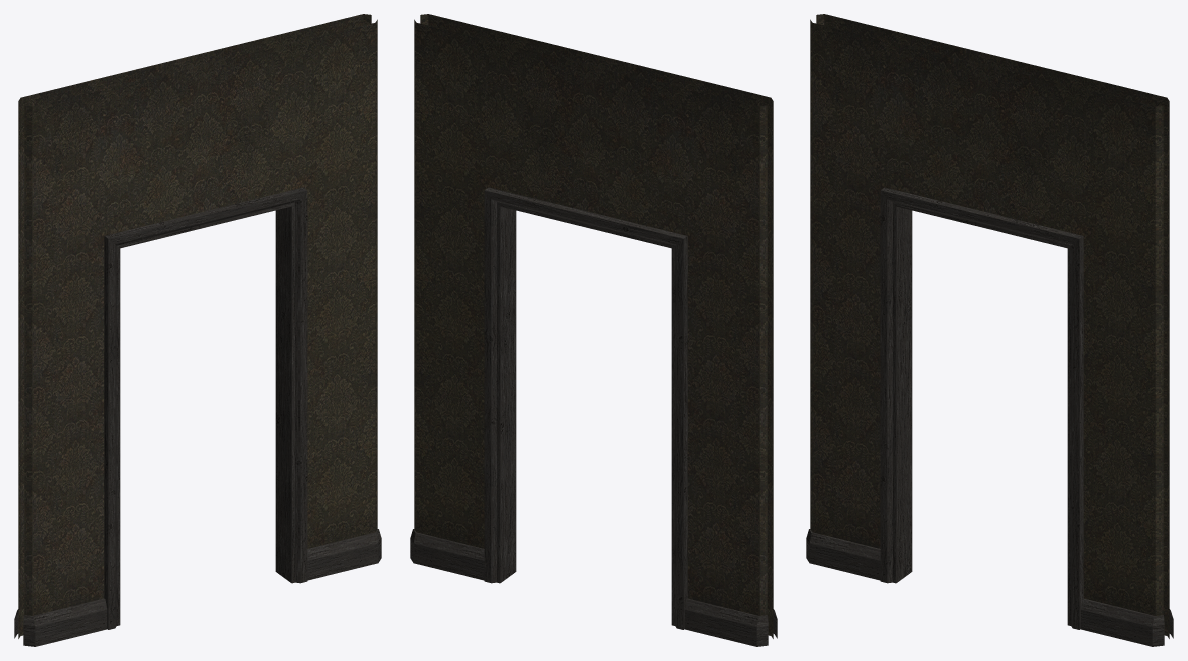
The model's file is doorway_2_2_half.glb.
3 renders of one model, left to right at view 1: azimuth 30°, elevation 25°; view 2: azimuth 150°, elevation 25°; view 3: azimuth 330°, elevation 25°, orthographic.
Visible parts, largest first — view 1: doorway_2_2_half; view 2: doorway_2_2_half; view 3: doorway_2_2_half.
Boxes of the visible parts, box(x1,y1,x2,y2) form: doorway_2_2_half: box(14, 14, 381, 646); doorway_2_2_half: box(410, 14, 777, 646); doorway_2_2_half: box(806, 14, 1173, 646).
Bounding box in the file's own units: 2.09 × 3 × 0.2.
2 materials, 2 textured.
